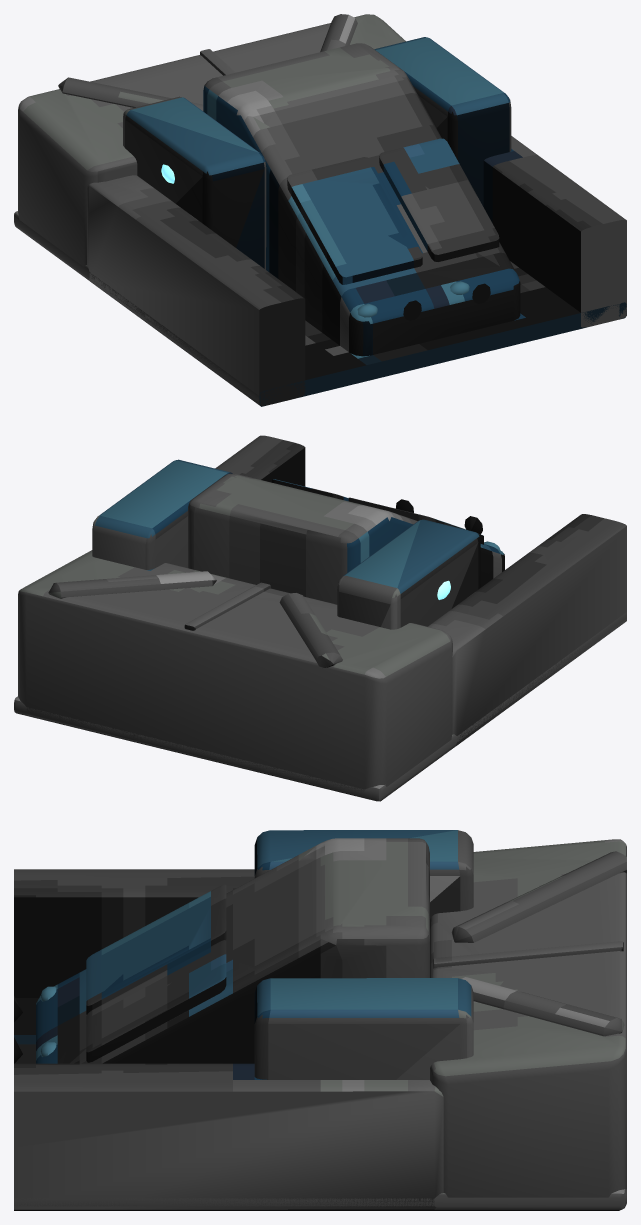
File: gun_silo_43.glb
3 views of the same model, one above another, from view 1: azimuth 30°, elevation 25°; view 2: azimuth 150°, elevation 25°; view 3: azimuth 270°, elevation 25° (orthographic). The views are drawn at different scales.
Parts seen in each view (by area): view 1: gun_silo_43_plate; view 2: gun_silo_43_plate; view 3: gun_silo_43_plate.
Part boxes in pixels (left/top/right/bottom): gun_silo_43_plate: left=14, top=14, right=626, bottom=406; gun_silo_43_plate: left=14, top=435, right=626, bottom=801; gun_silo_43_plate: left=14, top=830, right=626, bottom=1210.
Size of the model in its own units: 24 by 11.2 by 28.
